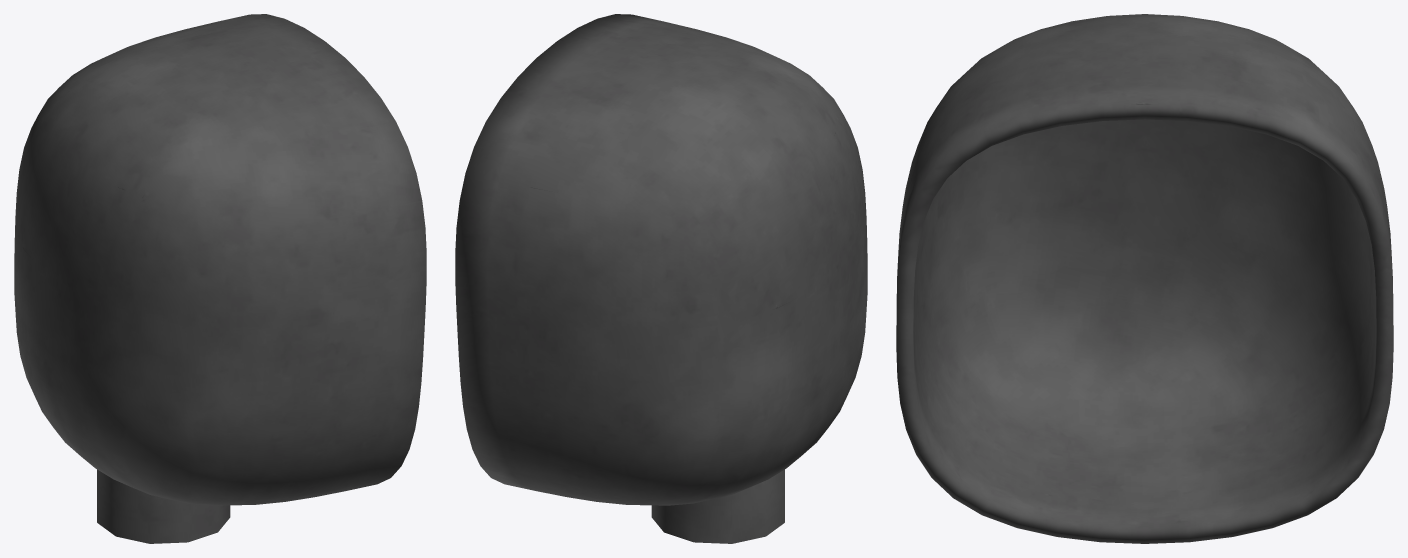
The model's file is scoop_random-2.glb.
3 renders of one model, left to right at view 1: azimuth 30°, elevation 25°; view 2: azimuth 150°, elevation 25°; view 3: azimuth 270°, elevation 25°, orthographic. The views are drawn at different scales.
Visible parts, largest first — view 1: scoop_random; view 2: scoop_random; view 3: scoop_random.
Boxes of the visible parts, x1,y1,x2,y2 form: scoop_random: (14, 14, 426, 543); scoop_random: (455, 14, 867, 543); scoop_random: (896, 14, 1393, 543).
Bounding box in the file's own units: 0.115 × 0.1777 × 0.1666.
1 material, 1 textured.
